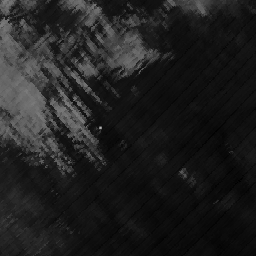Target: (98, 124, 103, 130)
